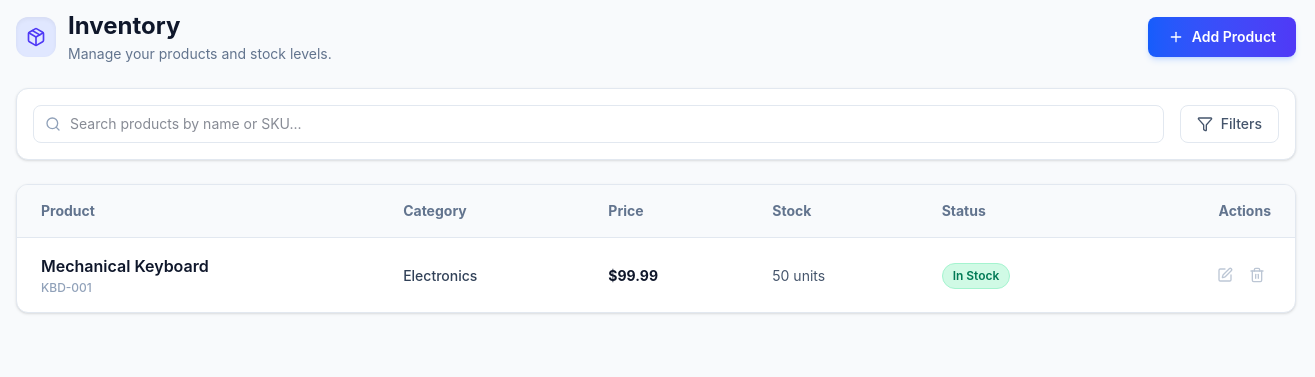
Test: Inventory Component › filters products by search term
Check: the text "Mechanical Keyboard" is shown, box [41,256,209,276]
Step 1. Type "Mouse" into the field with placeholder "Search products by name or SKU..." → coordinates (598, 124), box [33,105,1164,143]
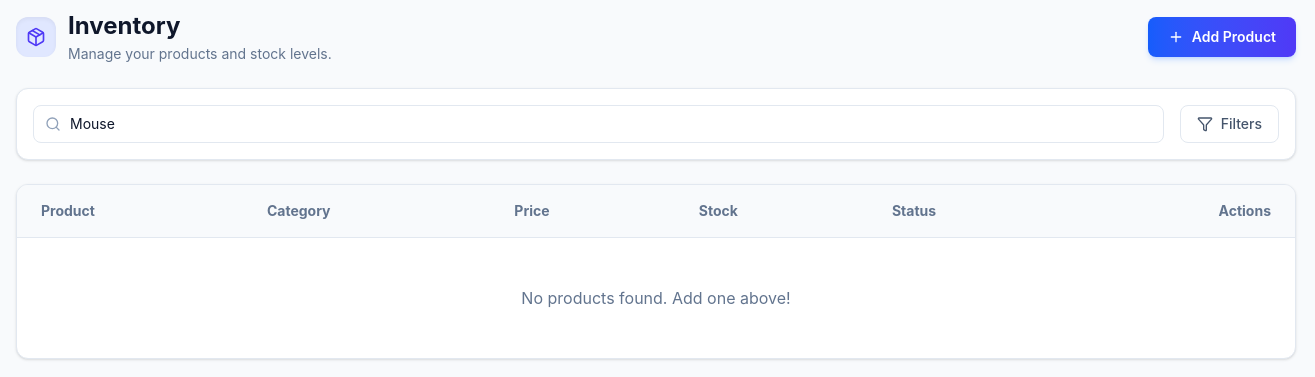
Check: the text "Mechanical Keyboard" is gone
Check: the text "No products found. Add one above!" is shown, box [17,238,1295,358]
